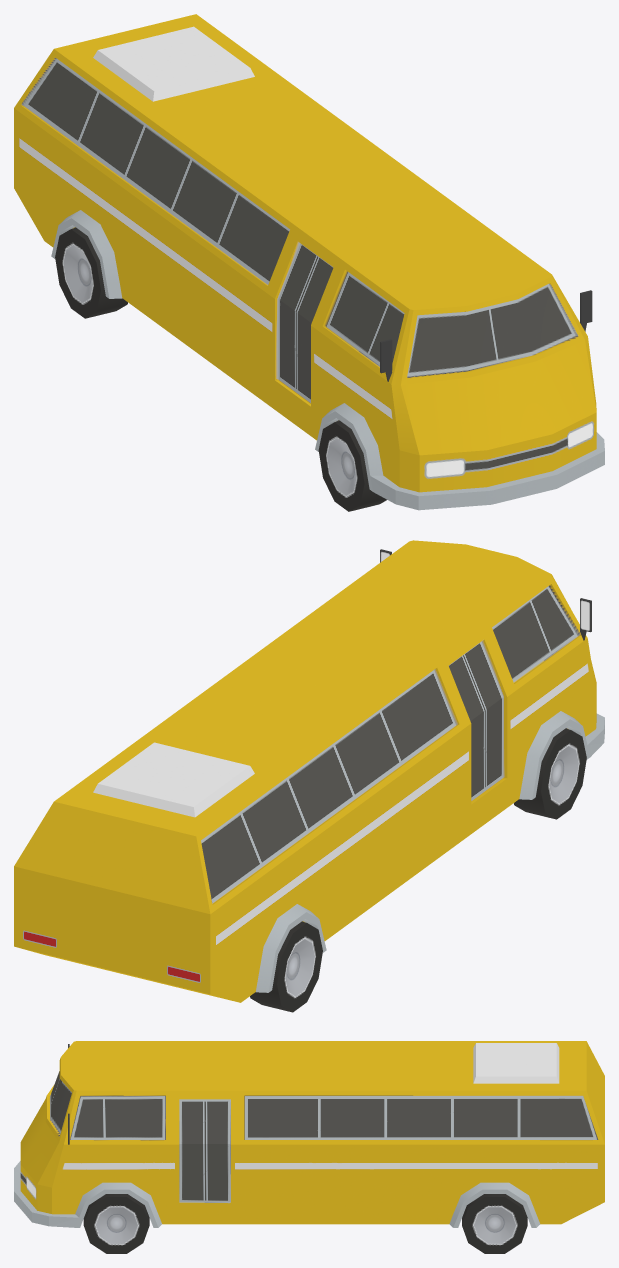
The model's file is Bus2.glb.
The picture shows the model from 3 angles, top to bottom: view 1: azimuth 30°, elevation 25°; view 2: azimuth 150°, elevation 25°; view 3: azimuth 270°, elevation 25°; orthographic projection. The views are drawn at different scales.
Parts seen in each view (by area): view 1: Object022; view 2: Object022; view 3: Object022.
Boxes of the visible parts, box(x1,y1,x2,y2) form: Object022: box(14, 14, 604, 511); Object022: box(14, 540, 604, 1012); Object022: box(14, 1041, 604, 1253).
Bounding box in the file's own units: 1.24 × 1.15 × 3.98.
5 materials, 5 textured.
